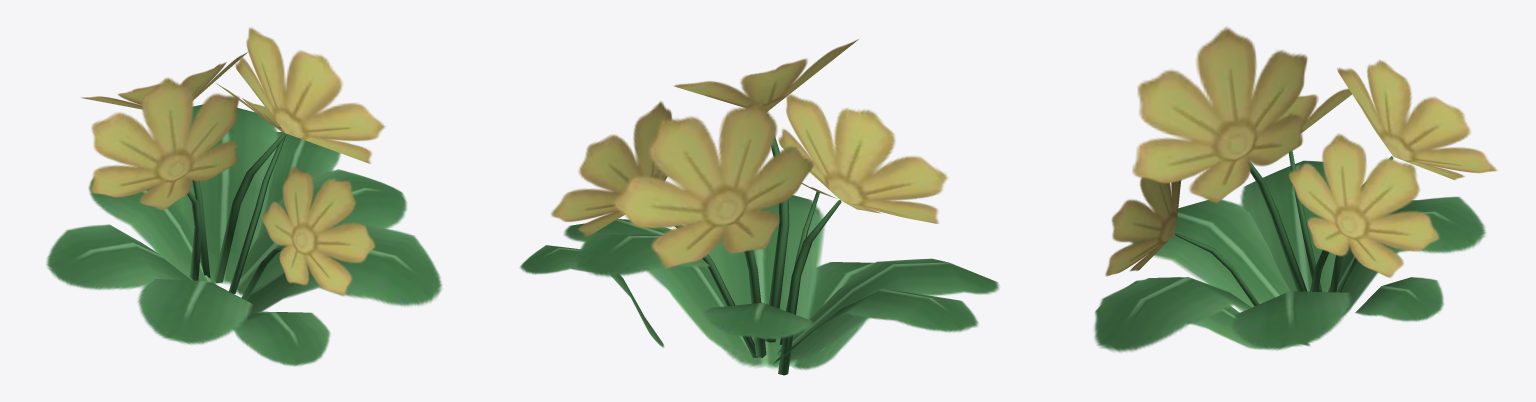
File: flower-bushes-3.glb
The picture shows the model from 3 angles, left to right: view 1: azimuth 30°, elevation 25°; view 2: azimuth 150°, elevation 25°; view 3: azimuth 270°, elevation 25°; orthographic projection. The views are drawn at different scales.
Parts seen in each view (by area): view 1: Plant_Flowers; view 2: Plant_Flowers; view 3: Plant_Flowers.
Boxes of the visible parts, bbox=[...] form: Plant_Flowers: bbox=[46, 27, 442, 366]; Plant_Flowers: bbox=[520, 39, 999, 375]; Plant_Flowers: bbox=[1094, 27, 1497, 352].
Size of the model in its own units: 1.48 by 1.18 by 1.53.
1 material, 1 textured.
